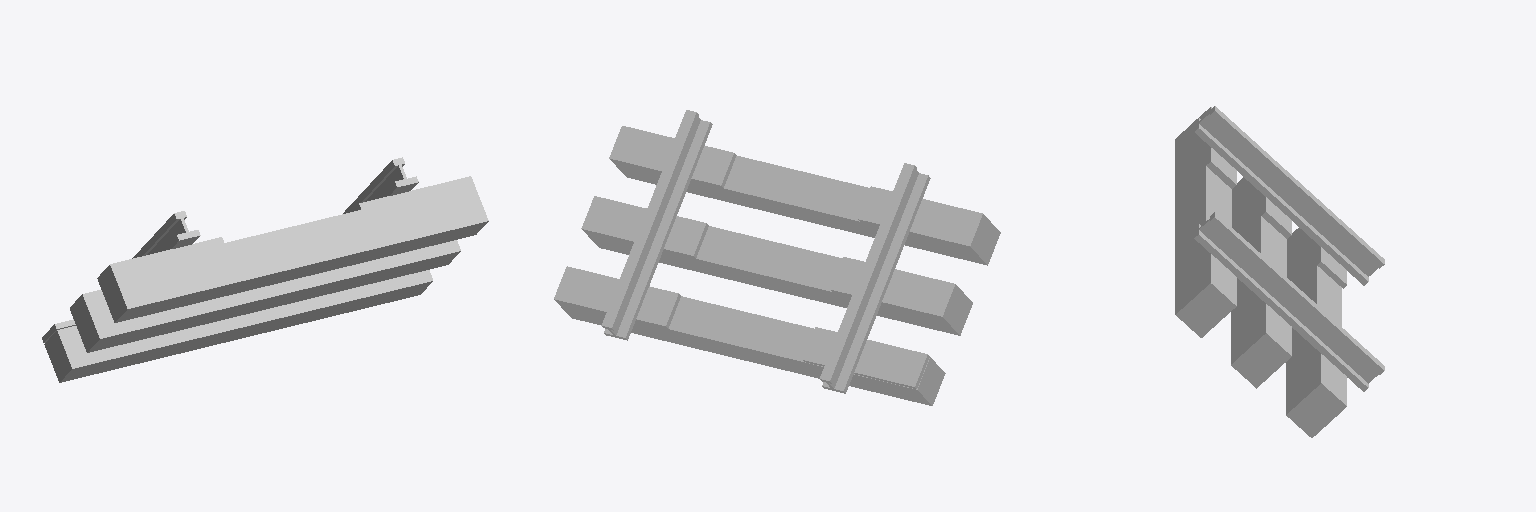
The model's file is ascending.obj.
The picture shows the model from 3 angles: view 1: azimuth 30°, elevation 25°; view 2: azimuth 150°, elevation 25°; view 3: azimuth 270°, elevation 25°; orthographic projection.
Visible parts, largest first — view 1: cube_selection; view 2: cube_selection; view 3: cube_selection.
Boxes of the visible parts, x1,y1,x2,y2 form: cube_selection: [42, 157, 488, 382]; cube_selection: [554, 110, 1000, 405]; cube_selection: [1175, 106, 1384, 437].
Size of the model in its own units: 2.5 by 1.25 by 1.25.